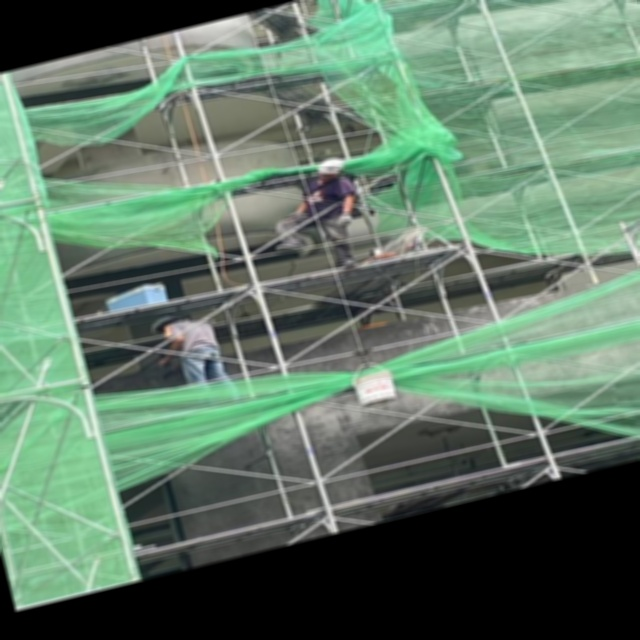Con_Casco: (314, 155, 346, 179)
